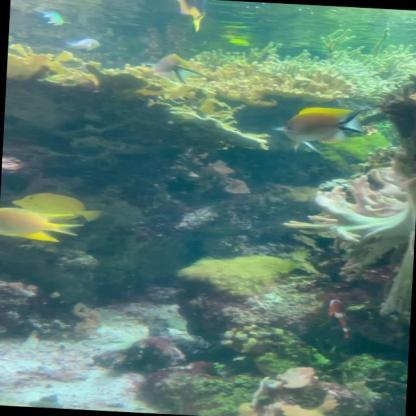fish: (271, 106, 372, 155), (12, 190, 108, 224), (0, 206, 83, 245), (150, 52, 209, 87), (152, 0, 209, 31), (324, 296, 356, 340), (63, 37, 105, 56), (42, 10, 66, 28)
